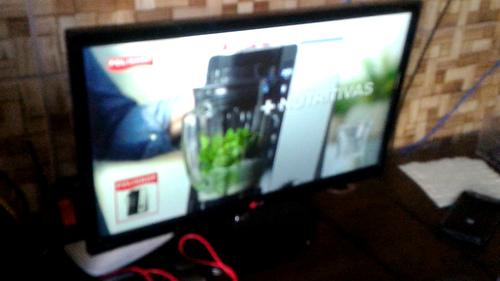Polishop #1: (109, 164, 161, 230)
